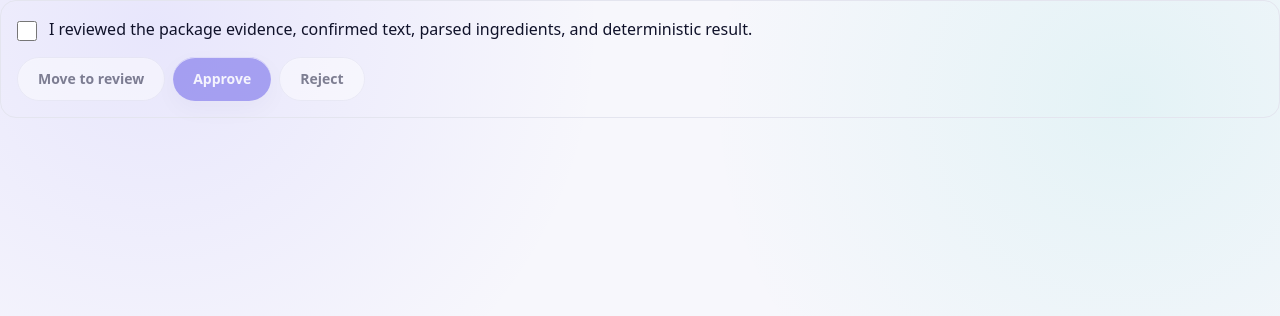
Test: Phase 8 submission moderation controls › keeps every decision disabled until the reviewer acknowledges the evidence
expect the button "Move to review" is disabled: met, box [17,57,165,101]
expect the button "Approve" is disabled: met, box [173,57,271,101]
Click the checkbox at coordinates (27, 31), box [17,21,37,41]
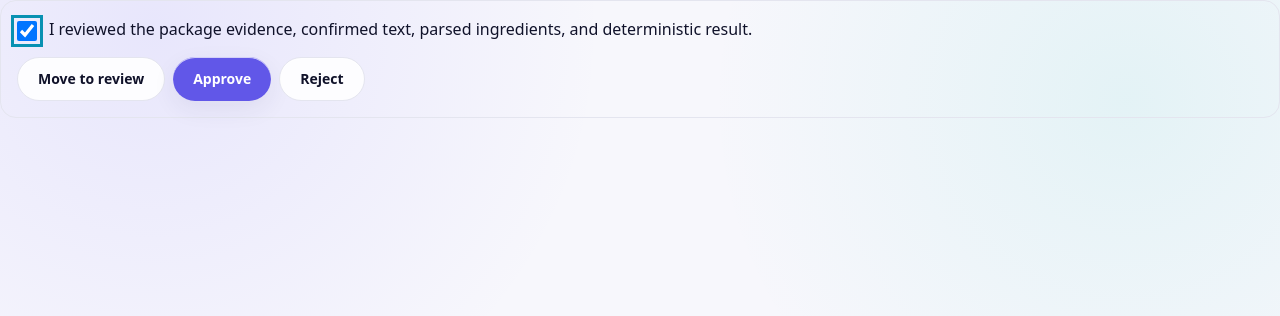
expect the button "Approve" is enabled: met, box [173,57,271,101]
